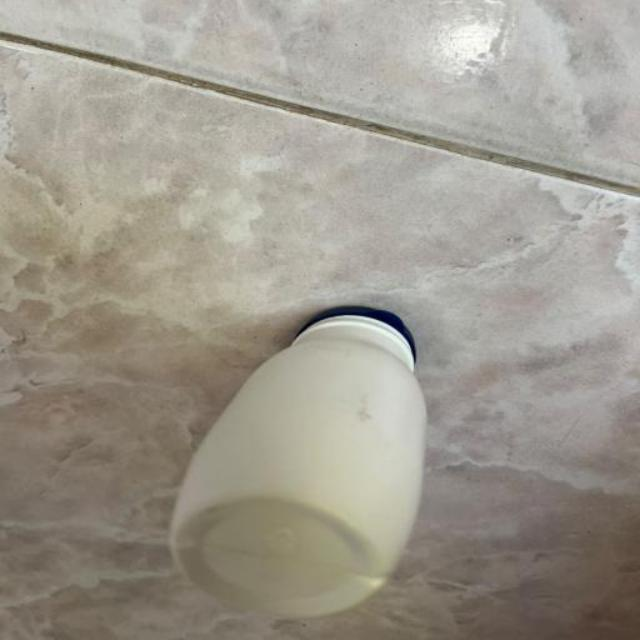HDPE: (173, 286, 546, 640)
